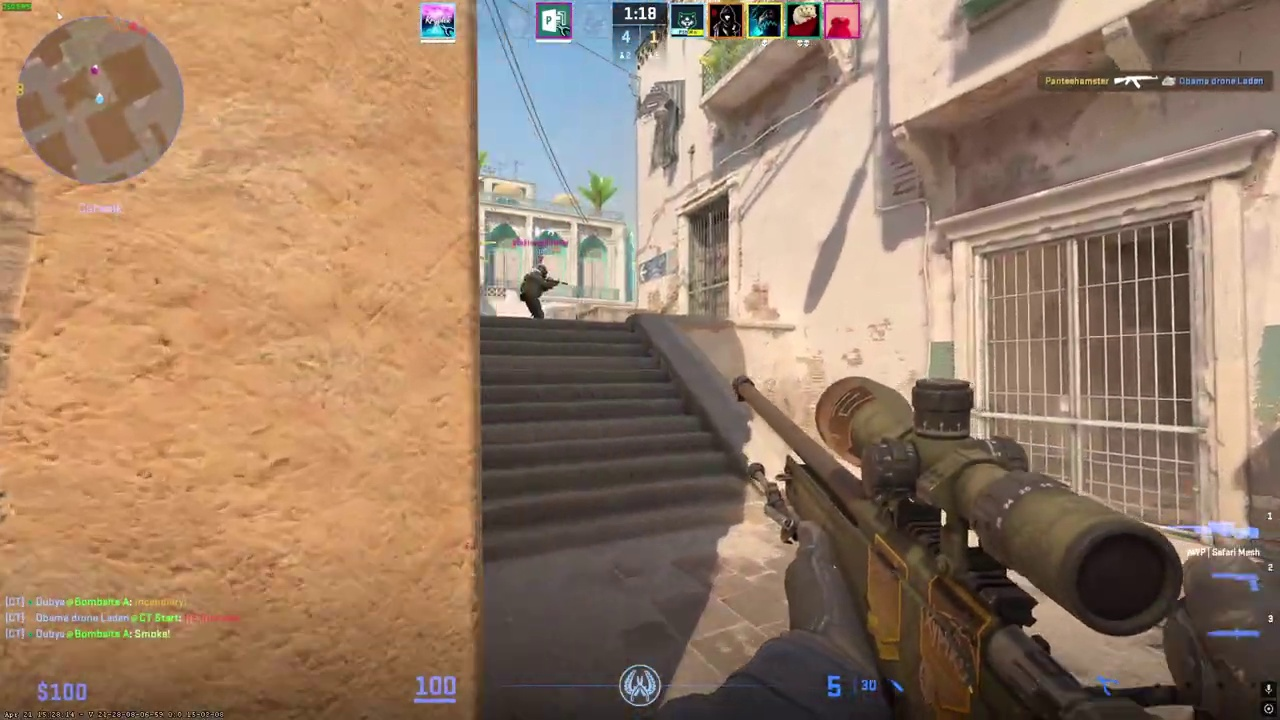CT: (520, 264, 551, 319)
